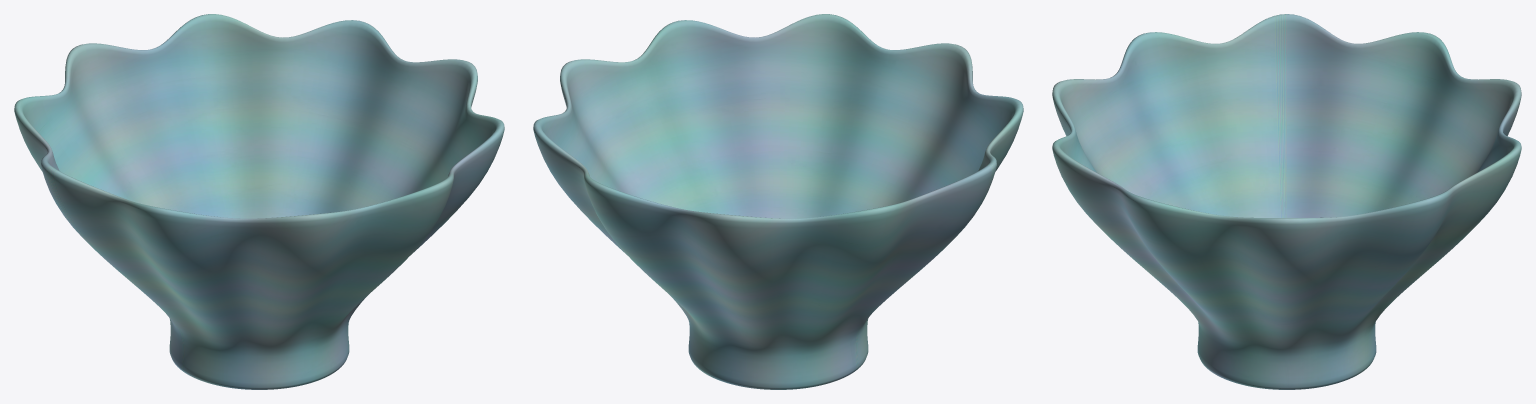
Rendered from SongRuYao_LotusBowl_Master.glb.
The picture shows the model from 3 angles, left to right: view 1: azimuth 30°, elevation 25°; view 2: azimuth 150°, elevation 25°; view 3: azimuth 270°, elevation 25°; orthographic projection.
Visible parts, largest first — view 1: SongRuYao_LotusBowl_Ultra; view 2: SongRuYao_LotusBowl_Ultra; view 3: SongRuYao_LotusBowl_Ultra.
Boxes of the visible parts, bbox=[...] form: SongRuYao_LotusBowl_Ultra: bbox=[14, 14, 504, 389]; SongRuYao_LotusBowl_Ultra: bbox=[533, 14, 1023, 389]; SongRuYao_LotusBowl_Ultra: bbox=[1052, 14, 1521, 389].
Bounding box in the file's own units: 0.2225 × 0.1189 × 0.2132.
1 material, 1 textured.
